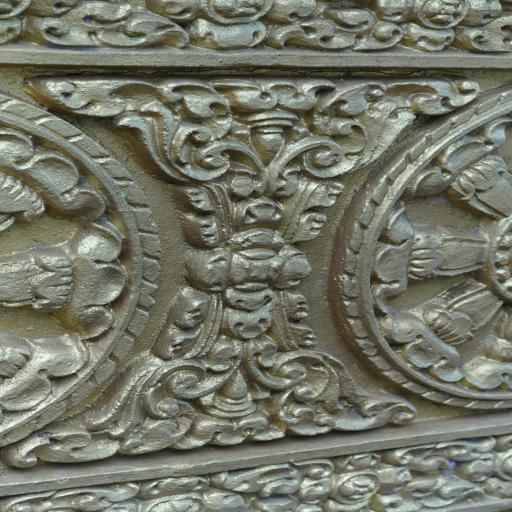hoa: (324, 80, 512, 444), (0, 85, 169, 468), (188, 222, 317, 312), (146, 0, 319, 51), (370, 0, 507, 55), (294, 454, 408, 512), (475, 440, 512, 503)
la: (10, 356, 232, 478), (38, 78, 234, 184), (301, 72, 479, 182), (251, 338, 431, 433), (27, 0, 200, 52), (274, 8, 385, 51), (394, 438, 494, 476), (378, 474, 478, 511)
